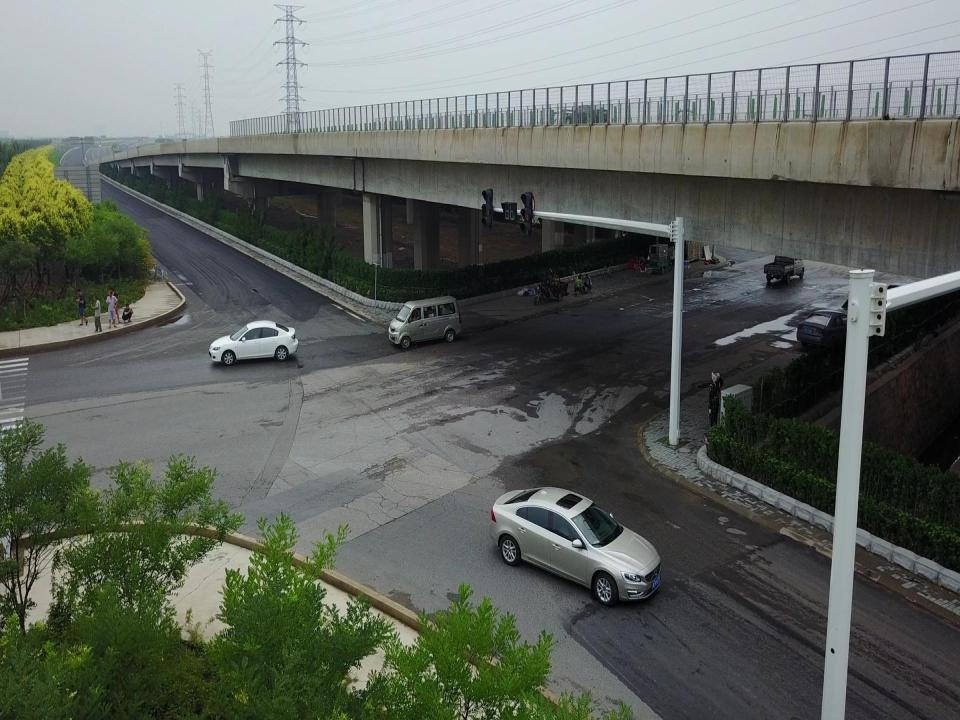car: (488, 481, 660, 602), (209, 316, 301, 366), (796, 310, 864, 354), (558, 100, 610, 131), (646, 242, 674, 276)
truck: (757, 244, 808, 284)
van: (388, 293, 462, 348)
